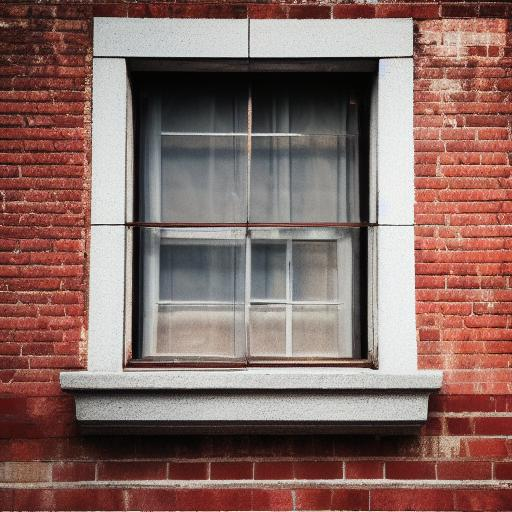Window: (59, 15, 446, 444)
